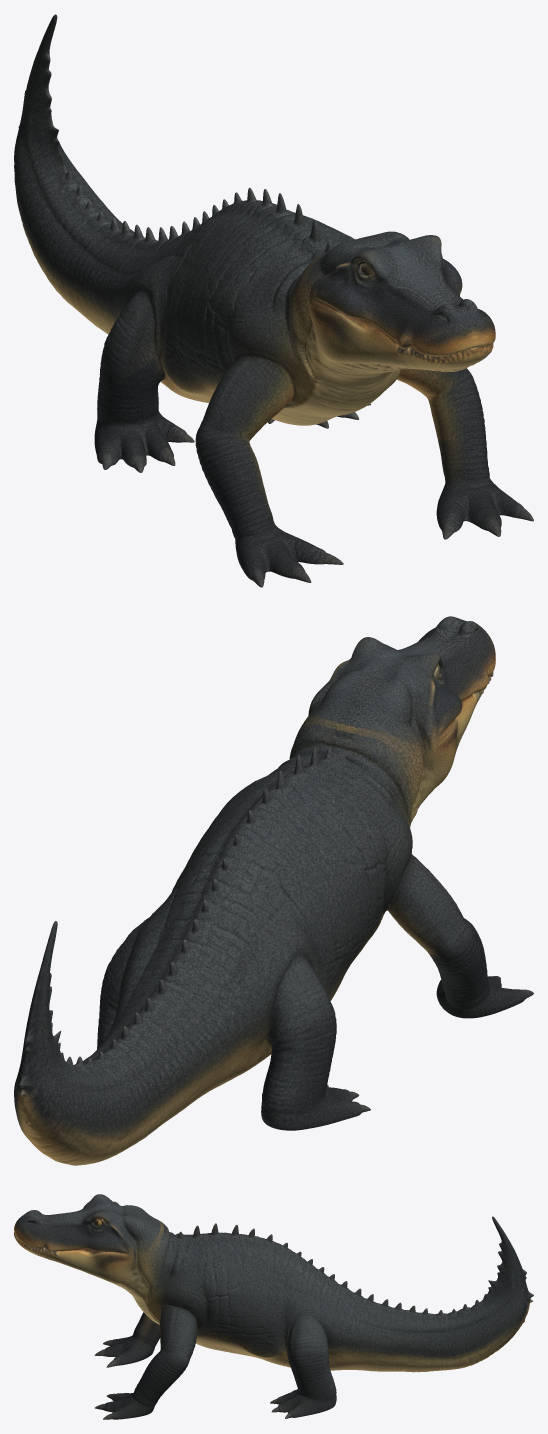
Rendered from RiverAmbusher.glb.
3 views of the same model, one above another, from view 1: azimuth 30°, elevation 25°; view 2: azimuth 150°, elevation 25°; view 3: azimuth 270°, elevation 25° (orthographic). The views are drawn at different scales.
Size of the model in its own units: 0.6598 by 0.7176 by 1.9.
1 material, 1 textured.
